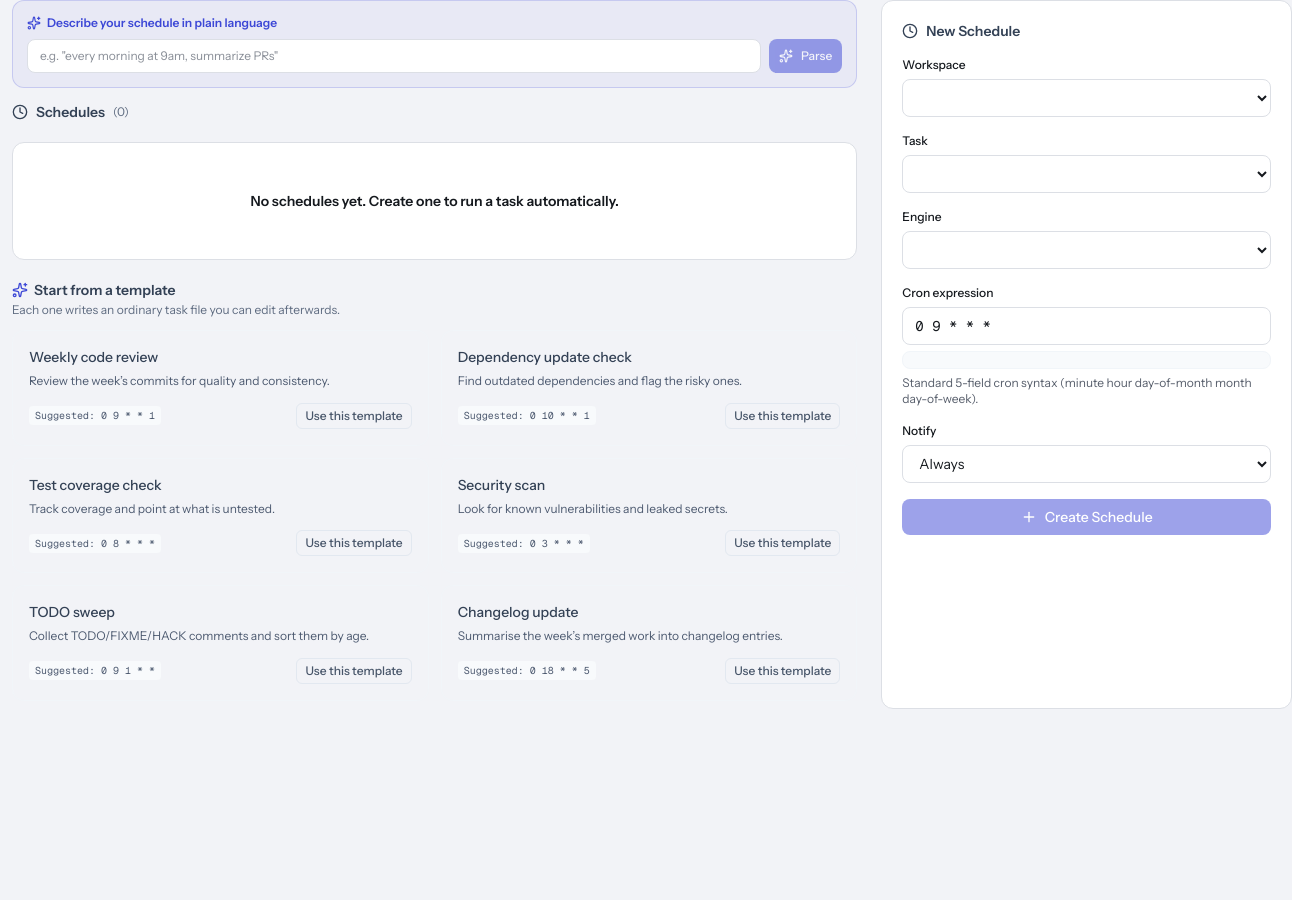
Scenario: CronPage task templates › using a template writes the blueprint and prefills the form, but creates no schedule
The image size is (1292, 900).
Click the button "Use this template" next to "Suggested: 0 9 * * 1".
click(354, 416)  # box [296, 402, 412, 428]
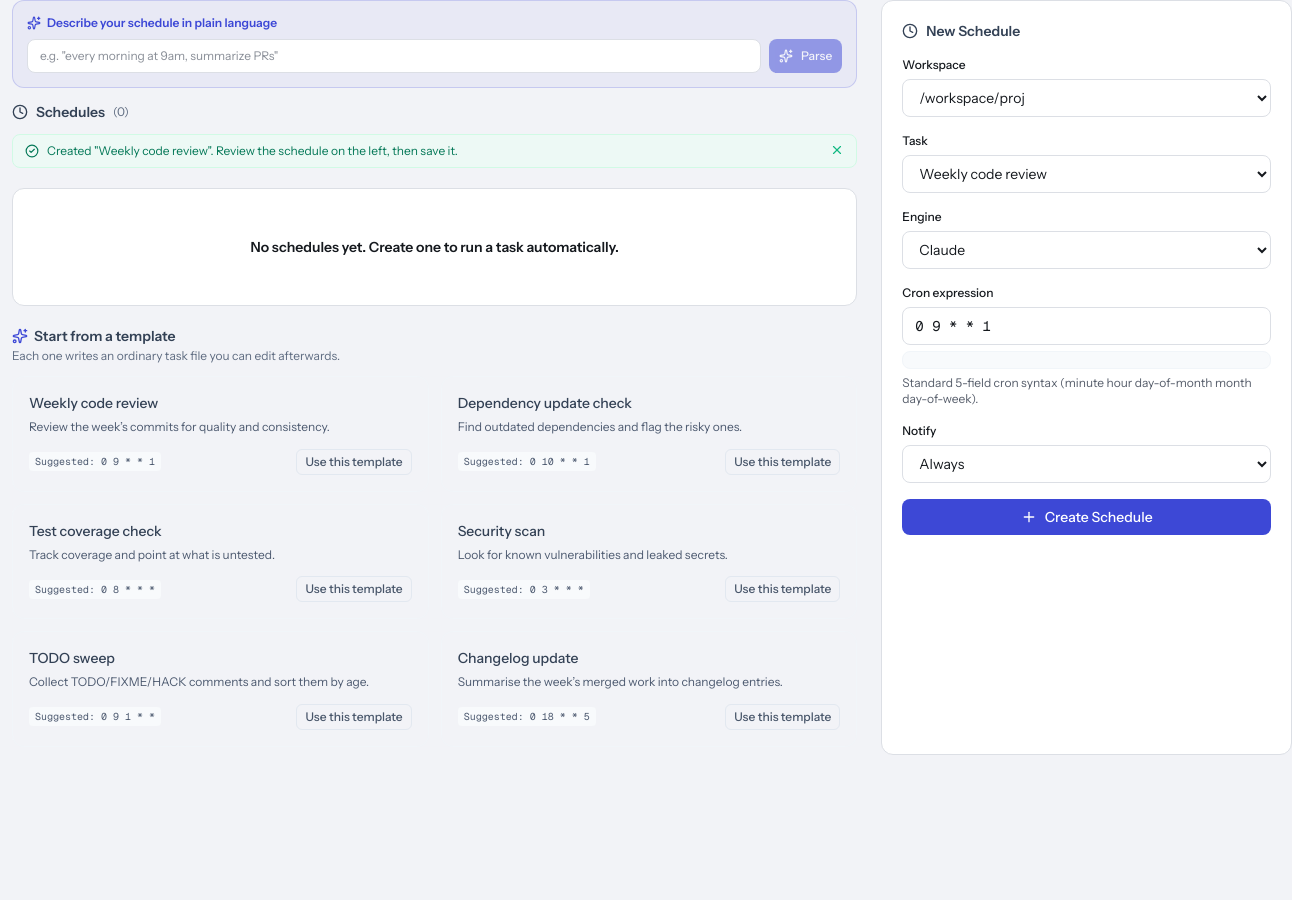
Result: the field showing "0 9 * * 1" is shown at [902, 307, 1271, 345]
